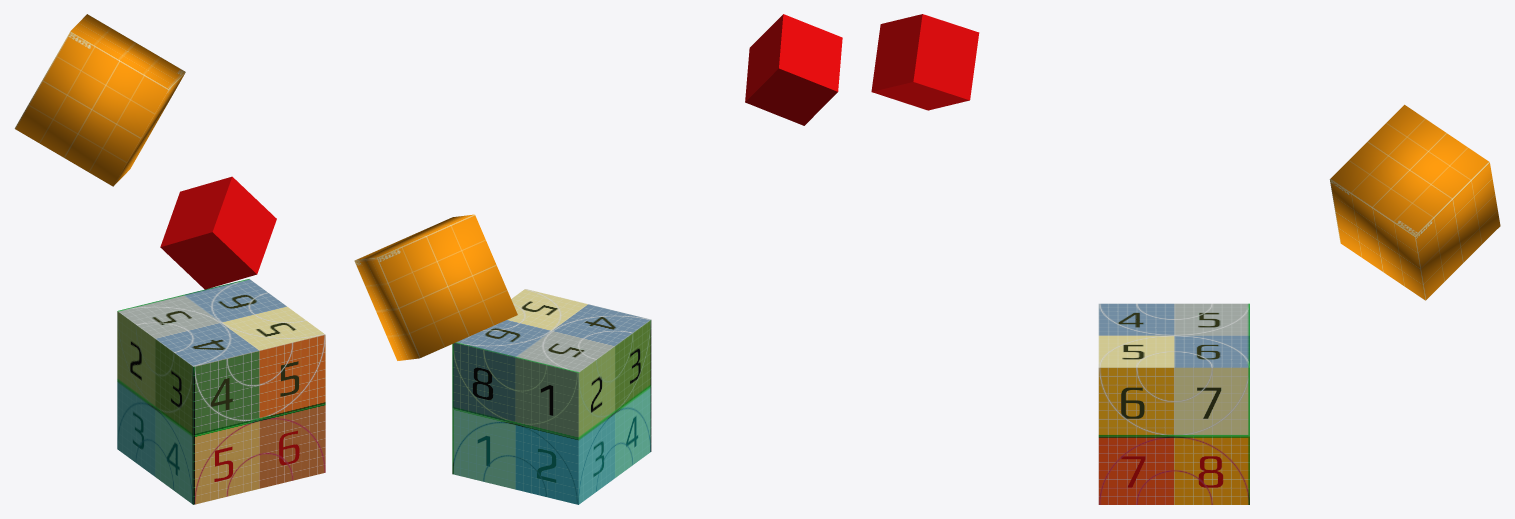
The model's file is cube_tex.fbx.
The picture shows the model from 3 angles, left to right: view 1: azimuth 30°, elevation 25°; view 2: azimuth 150°, elevation 25°; view 3: azimuth 270°, elevation 25°; orthographic projection. The views are drawn at different scales.
Parts seen in each view (by area): view 1: Cube.001, Cube.002, Cube.003; view 2: Cube.001, Cube.002, Cube.003; view 3: Cube.001, Cube.002, Cube.003.
Boxes of the visible parts, left/top/right/bottom form: Cube.001: left=117, top=279, right=325, bottom=504; Cube.002: left=14, top=14, right=185, bottom=186; Cube.003: left=160, top=176, right=276, bottom=289; Cube.001: left=452, top=289, right=651, bottom=504; Cube.002: left=354, top=214, right=517, bottom=360; Cube.003: left=745, top=14, right=842, bottom=125; Cube.001: left=1098, top=303, right=1249, bottom=504; Cube.002: left=1329, top=104, right=1500, bottom=300; Cube.003: left=871, top=14, right=979, bottom=110.
Size of the model in its own units: 403 by 587 by 830.
3 materials, 2 textured.
